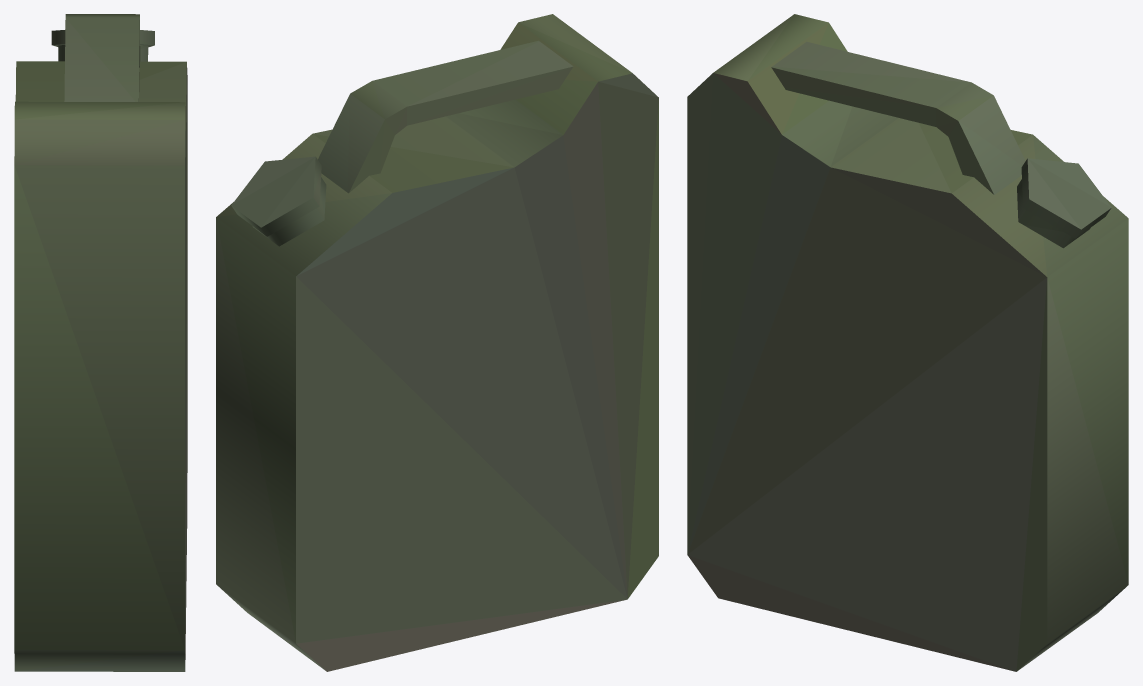
The model's file is hs_petrol_can.glb.
3 views of the same model, side by side, from view 1: azimuth 30°, elevation 25°; view 2: azimuth 150°, elevation 25°; view 3: azimuth 270°, elevation 25° (orthographic). The views are drawn at different scales.
Visible parts, largest first — view 1: Petrol_Can001; view 2: Petrol_Can001; view 3: Petrol_Can001.
Part boxes in pixels (x1=…): Petrol_Can001: x1=14, y1=14, x2=187, y2=671; Petrol_Can001: x1=216, y1=14, x2=658, y2=671; Petrol_Can001: x1=687, y1=14, x2=1128, y2=671.
Size of the model in its own units: 0.3121 by 0.5163 by 0.3939.
